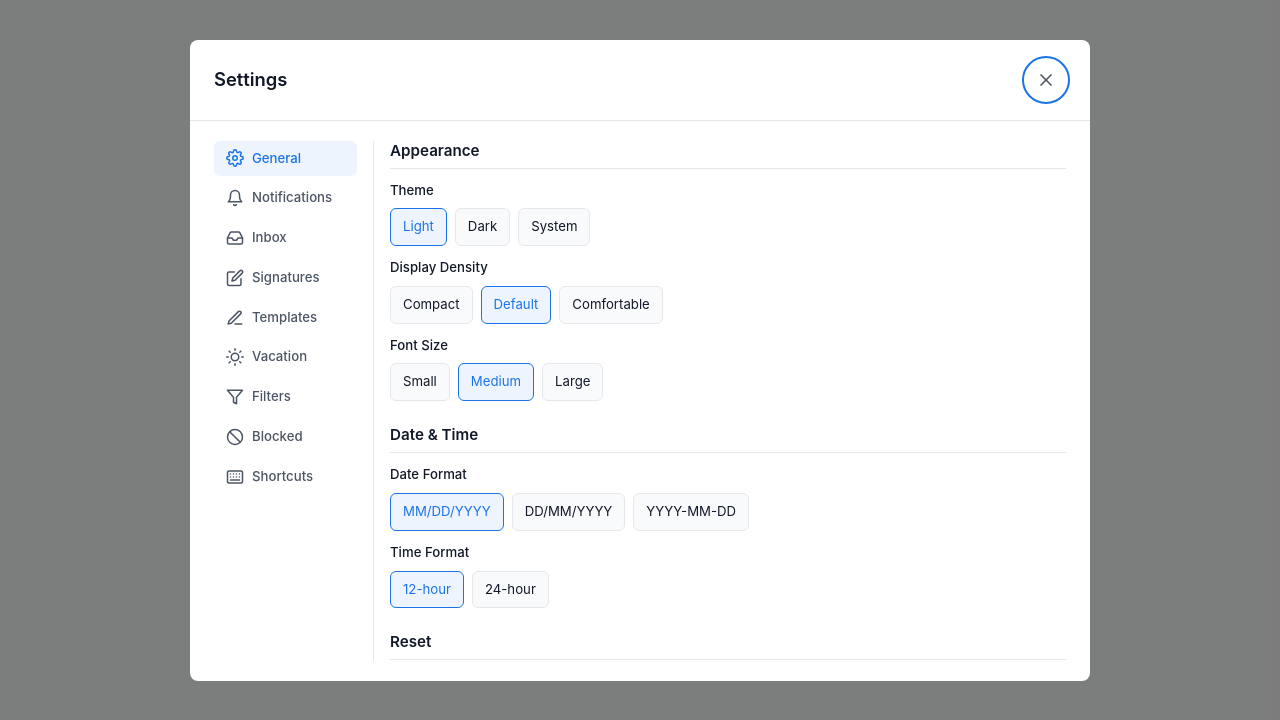
Test case: SettingsModal - filter list display › removes filter from list when Delete button is clicked
This screenshot has width=1280, height=720.
Click the button "Filters" at (286, 397), box [214, 379, 357, 415]
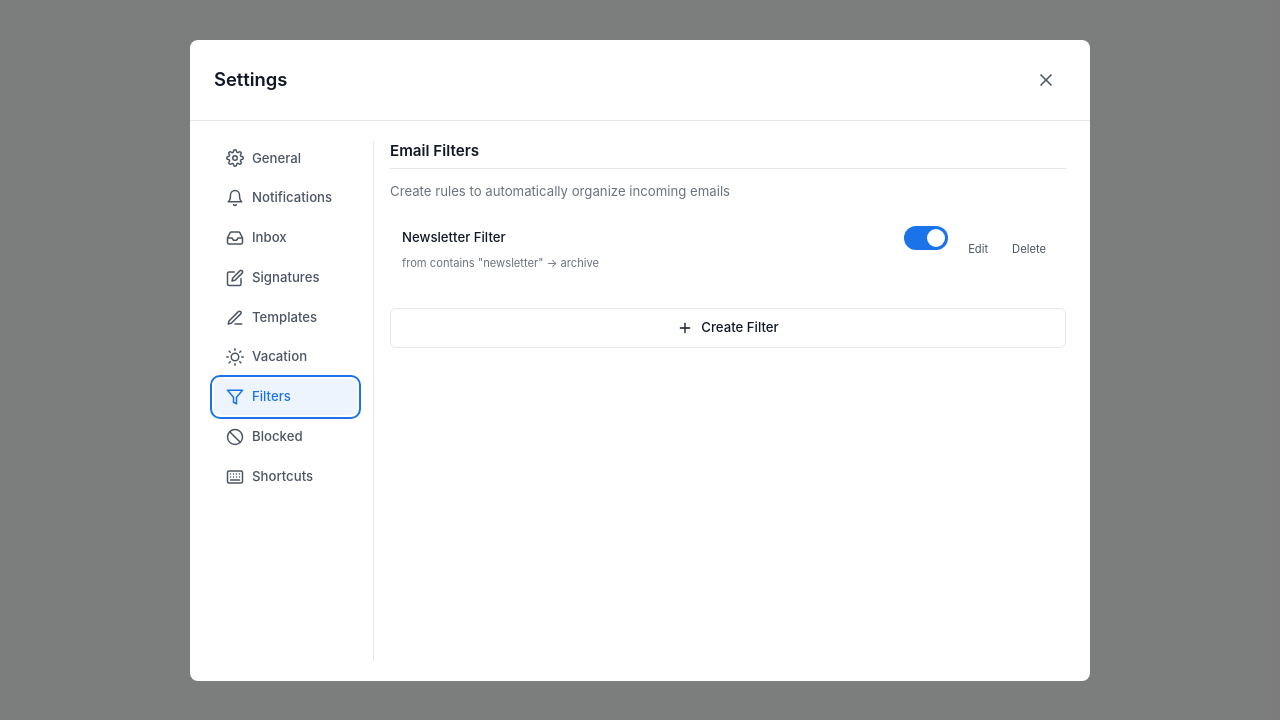
Expected: the heading "Email Filters" is shown, [390, 140, 1066, 168]
Expected: the button "Delete" is shown
Click the button "Delete" at (1029, 249), box [1004, 237, 1054, 262]
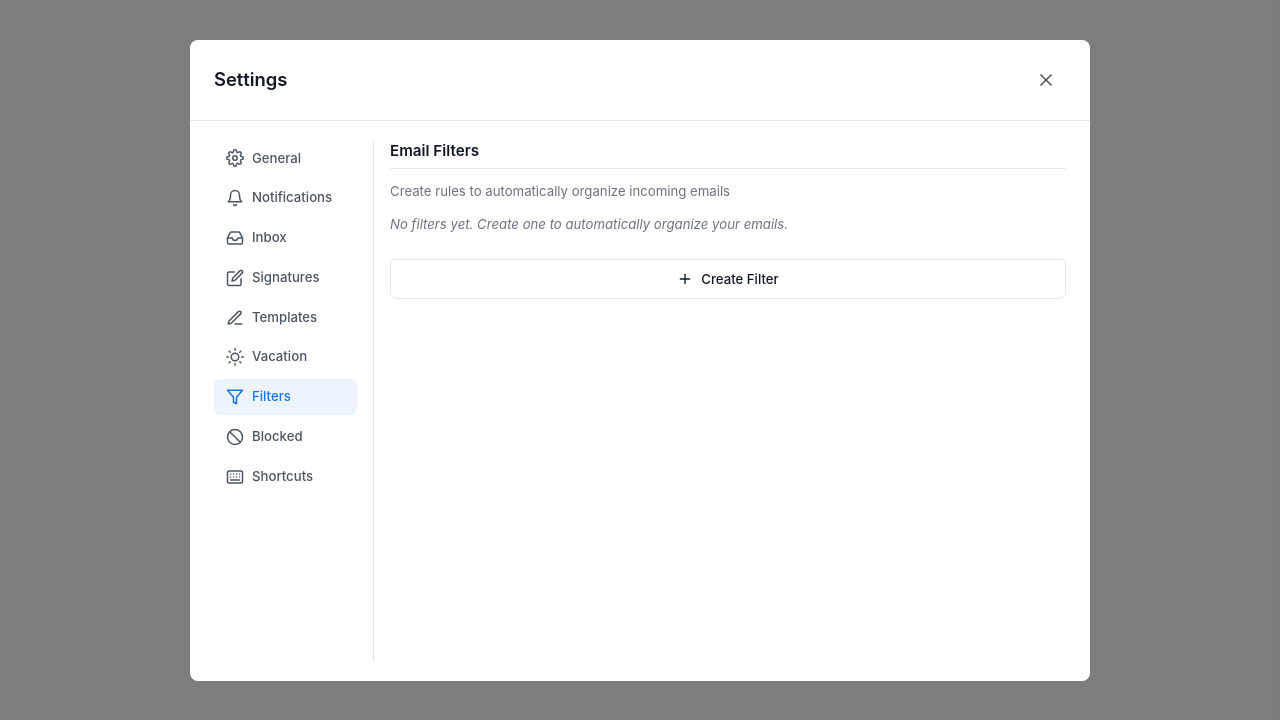
Expected: the text "Newsletter Filter" is gone
